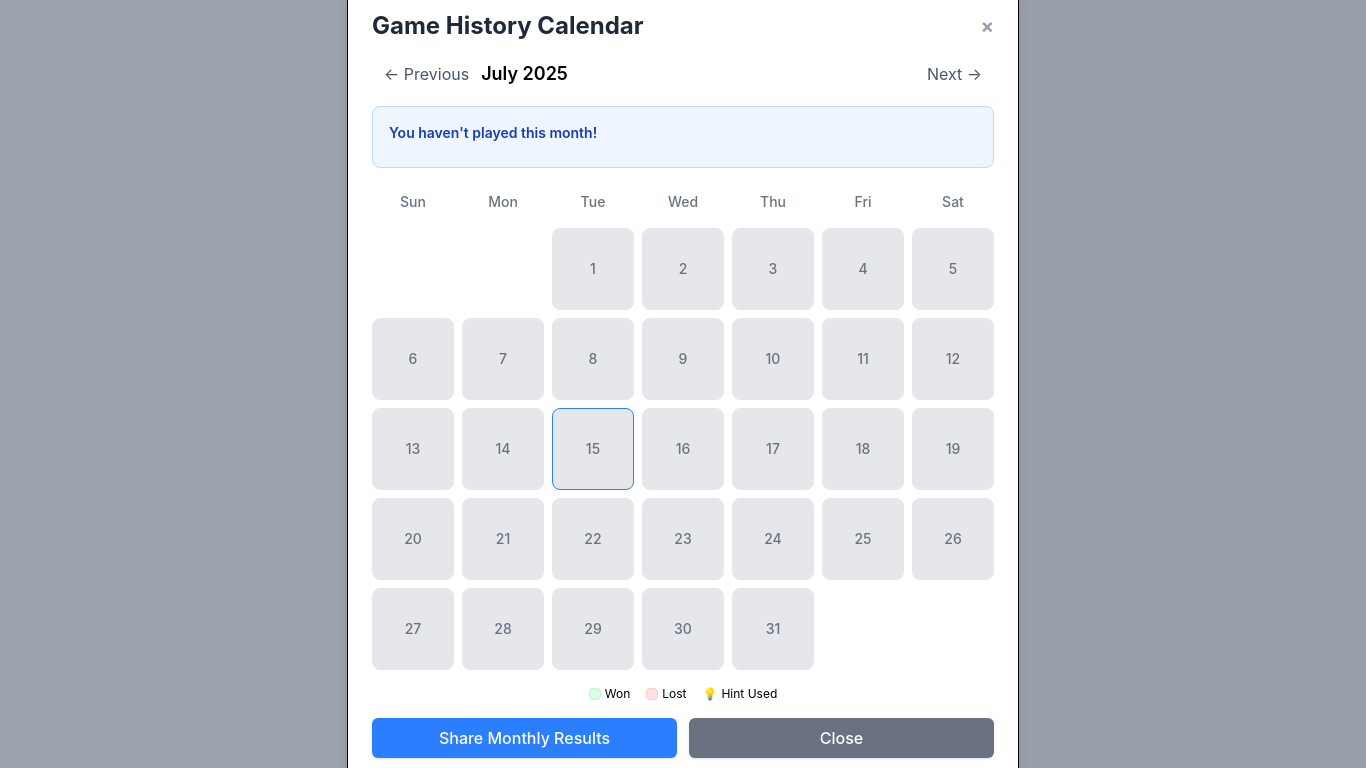
Test: GameHistoryCalendar › shows success message after successful share
Click the button "Share Monthly Results".
click(524, 738)  # box [372,718,677,758]
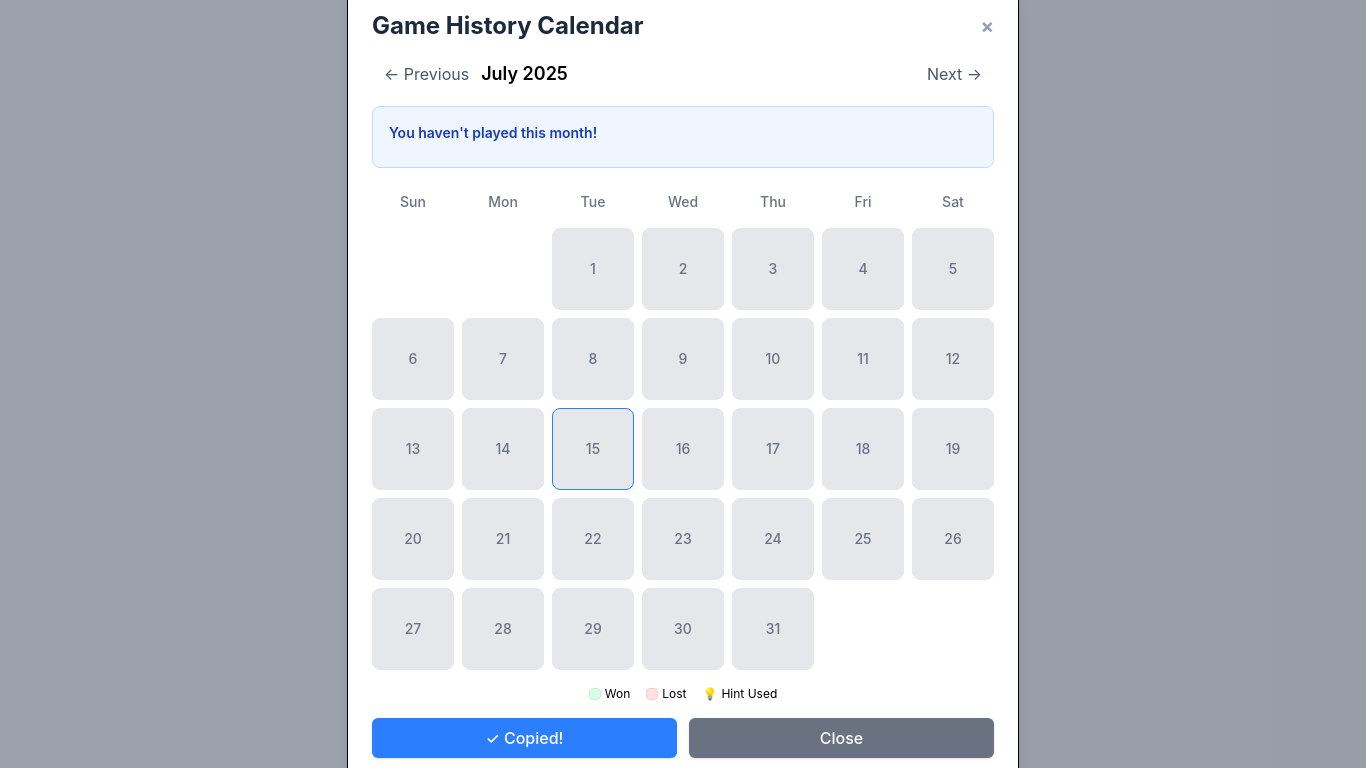
expect the button "✓ Copied!" is shown: met, box [372,718,677,758]
